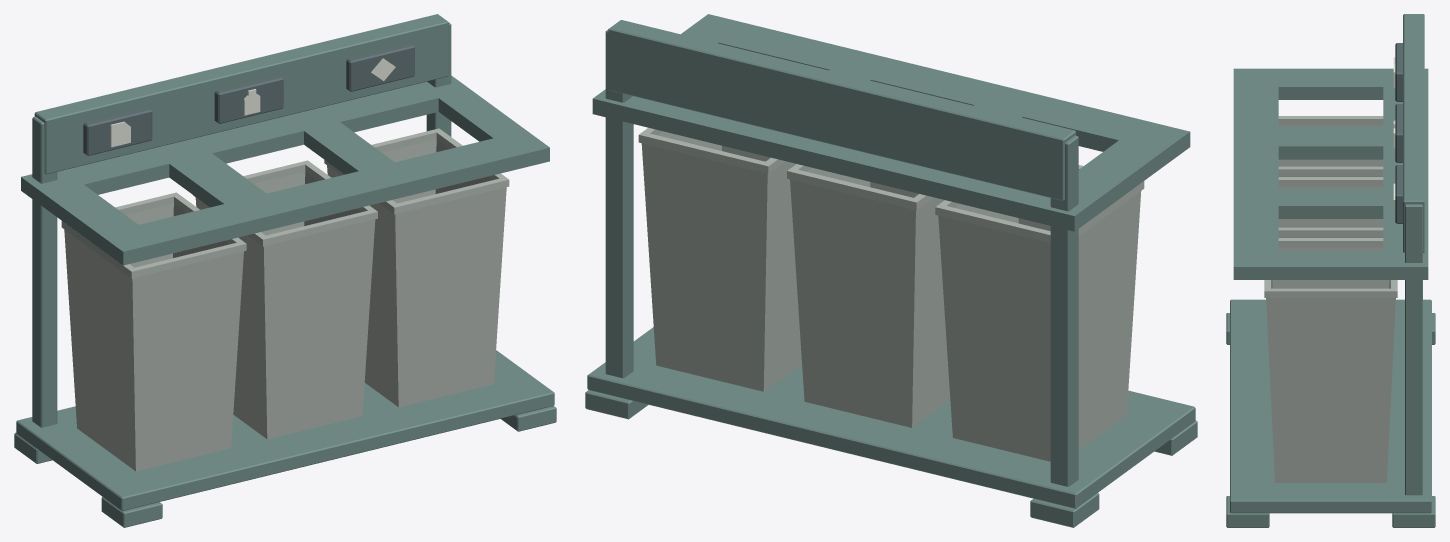
3 renders of one model, left to right at view 1: azimuth 30°, elevation 25°; view 2: azimuth 150°, elevation 25°; view 3: azimuth 270°, elevation 25°, orthographic. The views are drawn at different scales.
Parts seen in each view (by area): view 1: Continuous three aperture deck, Removable hollow liner 1, Removable hollow liner 3, Removable hollow liner 2, Continuous liner support shelf, Rear identity header, Rear frame post -0.60, Editable category plaque 3, Editable category plaque 2, Editable category plaque 1, Ground foot -0.60 -0.23, Ground foot 0.60 -0.23 (+1 smaller); view 2: Removable hollow liner 1, Removable hollow liner 2, Removable hollow liner 3, Rear identity header, Continuous three aperture deck, Continuous liner support shelf, Rear frame post -0.60, Rear frame post 0.60, Ground foot -0.60 0.23, Ground foot 0.60 0.23; view 3: Continuous three aperture deck, Removable hollow liner 3, Continuous liner support shelf, Rear frame post 0.60, Rear identity header, Removable hollow liner 2, Removable hollow liner 1, Ground foot 0.60 -0.23, Ground foot 0.60 0.23, Editable category plaque 1, Editable category plaque 2, Editable category plaque 3.
Part boxes in pixels (x1,y1,x2,y2): Continuous three aperture deck: (21, 75, 549, 265); Removable hollow liner 1: (61, 192, 246, 471); Removable hollow liner 3: (324, 128, 509, 407); Removable hollow liner 2: (193, 160, 377, 439); Continuous liner support shelf: (16, 350, 554, 510); Rear identity header: (34, 14, 448, 174); Rear frame post -0.60: (32, 116, 57, 427); Editable category plaque 3: (346, 43, 414, 91); Editable category plaque 2: (214, 75, 283, 123); Editable category plaque 1: (83, 107, 152, 155); Ground foot -0.60 -0.23: (101, 497, 162, 527); Ground foot 0.60 -0.23: (501, 406, 556, 431); Removable hollow liner 1: (935, 165, 1144, 461); Removable hollow liner 2: (787, 164, 950, 427); Removable hollow liner 3: (638, 128, 801, 391); Rear identity header: (608, 20, 1075, 200); Continuous three aperture deck: (592, 14, 1190, 231); Continuous liner support shelf: (587, 327, 1195, 508); Rear frame post -0.60: (1050, 135, 1078, 486); Rear frame post 0.60: (605, 30, 633, 378); Ground foot -0.60 0.23: (1030, 493, 1099, 527); Ground foot 0.60 0.23: (585, 390, 648, 419); Continuous three aperture deck: (1233, 68, 1428, 279); Removable hollow liner 3: (1264, 238, 1397, 482); Continuous liner support shelf: (1230, 299, 1431, 513); Rear frame post 0.60: (1405, 204, 1422, 495); Rear identity header: (1403, 14, 1424, 252); Removable hollow liner 2: (1278, 177, 1383, 237); Removable hollow liner 1: (1278, 116, 1383, 176); Ground foot 0.60 -0.23: (1226, 496, 1269, 527); Ground foot 0.60 0.23: (1392, 496, 1435, 527); Editable category plaque 1: (1395, 43, 1402, 101); Editable category plaque 2: (1395, 104, 1402, 162); Editable category plaque 3: (1395, 165, 1402, 223).
Bounding box in the file's own units: 1.32 × 0.98 × 0.58.
